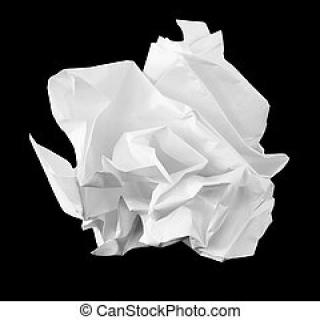Anorganik: (21, 17, 298, 275)
